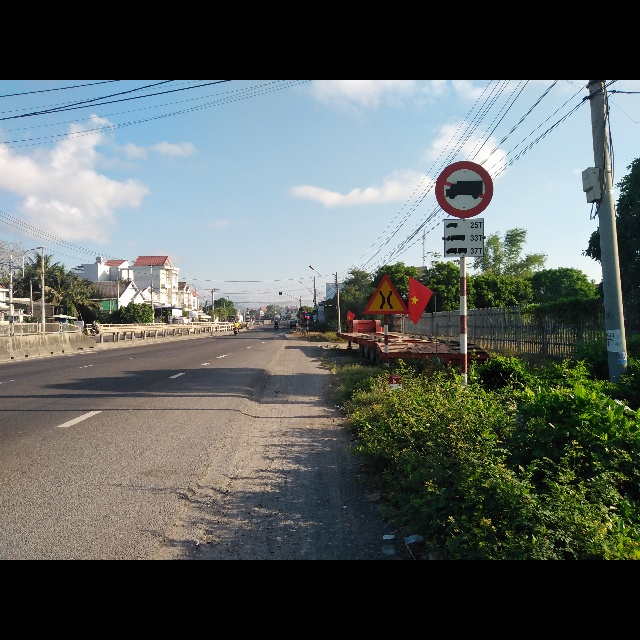Cấm xe tải: (433, 160, 494, 219)
Cầu hẹp: (361, 276, 406, 316)
